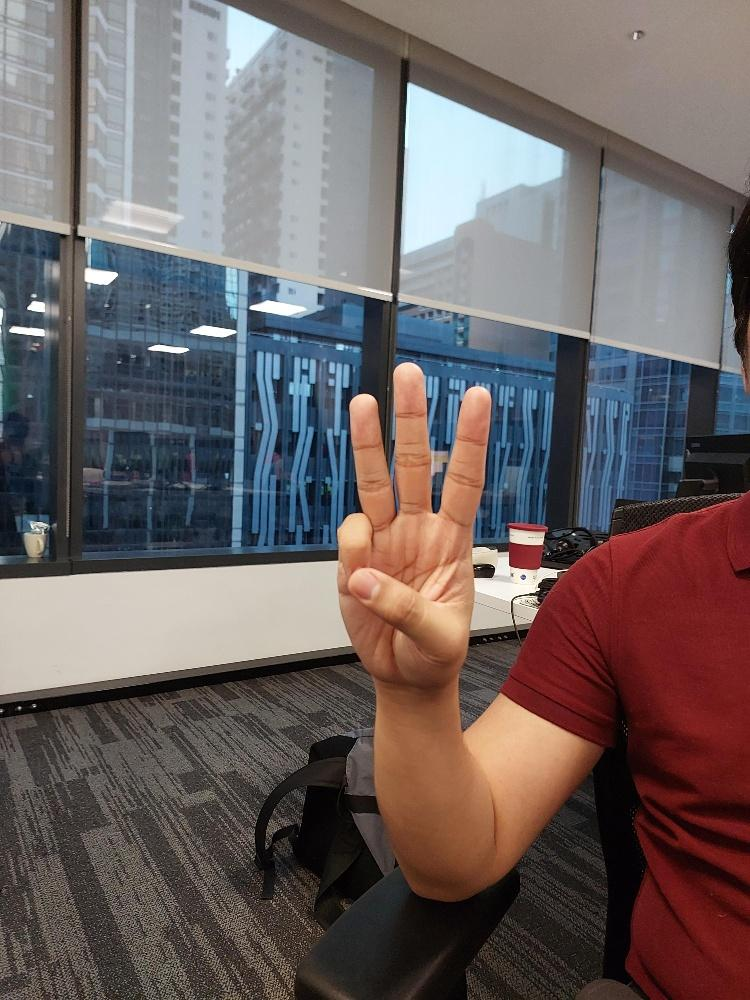w: (330, 359, 495, 696)
